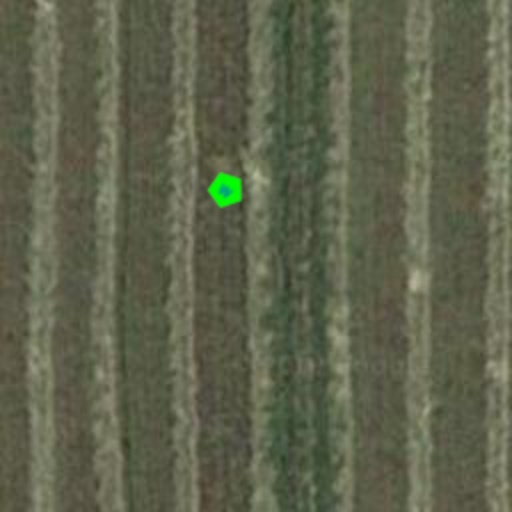pentagon: (198, 162, 254, 218)
